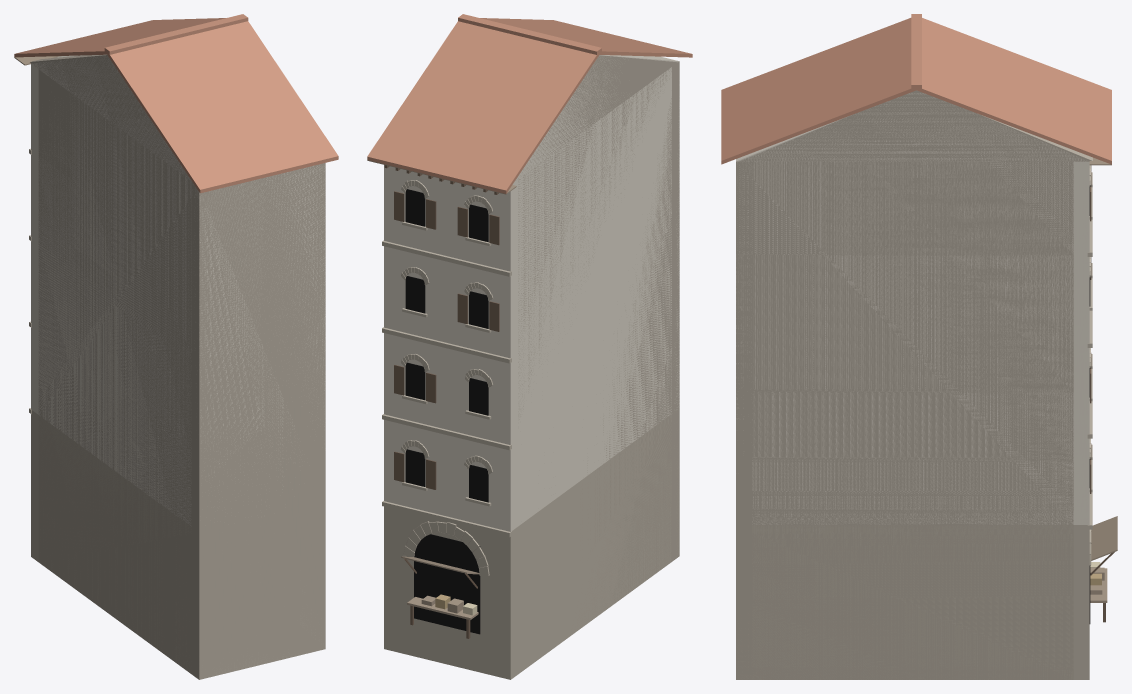
The model's file is casa-52-4-intonaco.glb.
The picture shows the model from 3 angles, left to right: view 1: azimuth 30°, elevation 25°; view 2: azimuth 150°, elevation 25°; view 3: azimuth 270°, elevation 25°; orthographic projection. The views are drawn at different scales.
Visible parts, largest first — view 1: vicino, lontano; view 2: lontano, vicino, aperta; view 3: vicino, lontano, aperta.
Part boxes in pixels (<box>): vicino: <box>14,14,338,679</box>; lontano: <box>17,52,338,677</box>; lontano: <box>368,52,690,679</box>; vicino: <box>367,14,692,679</box>; aperta: <box>401,556,479,638</box>; vicino: <box>721,14,1111,679</box>; lontano: <box>722,89,1109,679</box>; aperta: <box>1090,516,1117,622</box>.
Bounding box in the file's own units: 5.7 × 22.38 × 13.45.
